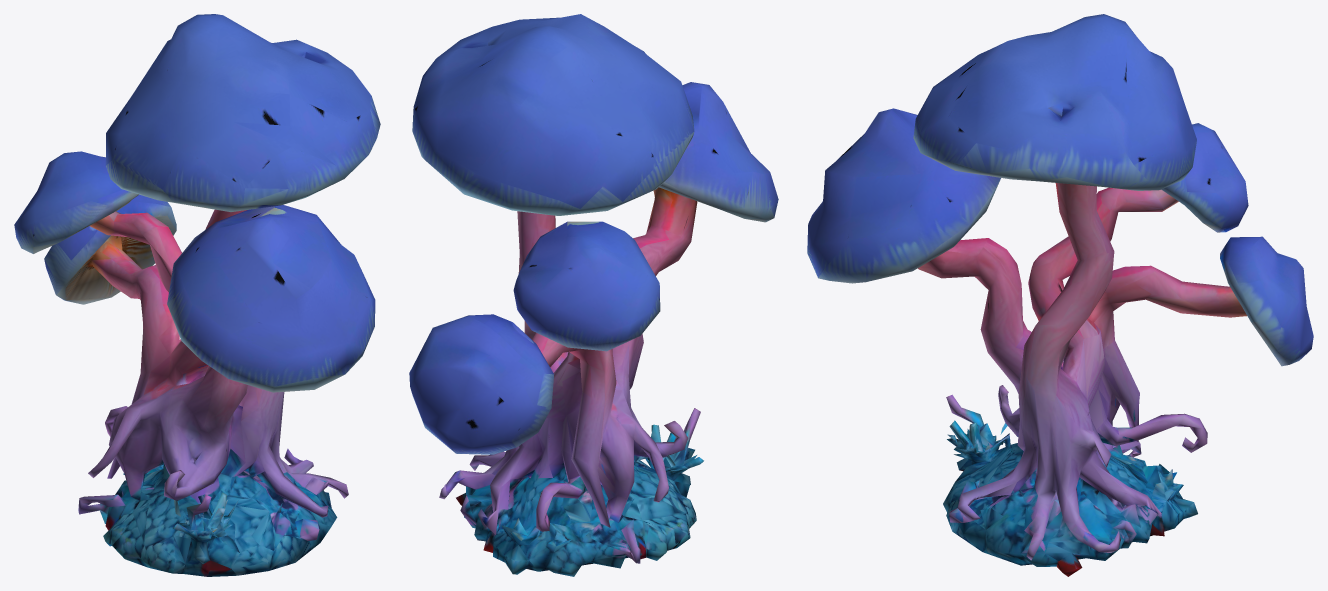
File: albero-multiFunghi-LOW.fbx
3 views of the same model, side by side, from view 1: azimuth 30°, elevation 25°; view 2: azimuth 150°, elevation 25°; view 3: azimuth 270°, elevation 25° (orthographic). The views are drawn at different scales.
Parts seen in each view (by area): view 1: multiFunghi; view 2: multiFunghi; view 3: multiFunghi.
Boxes of the visible parts, box(x1,y1,x2,y2) form: multiFunghi: box(14, 14, 380, 576); multiFunghi: box(409, 14, 778, 576); multiFunghi: box(807, 14, 1313, 576).
Bounding box in the file's own units: 1941 × 3340 × 2992.
1 material, 1 textured.
